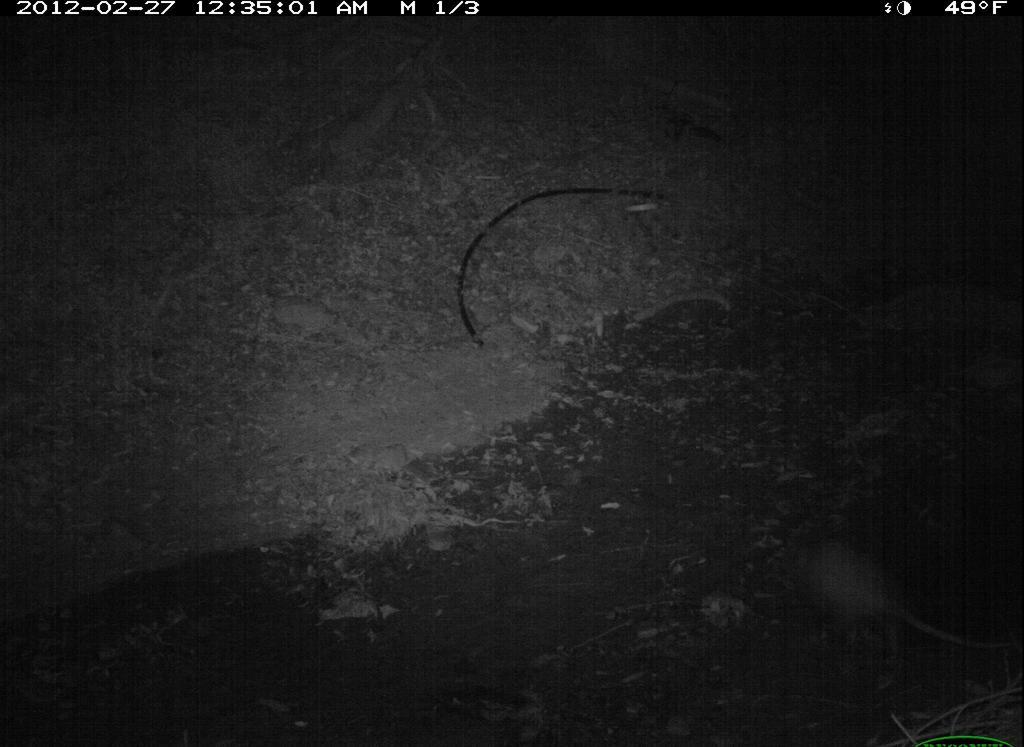opossum: (767, 525, 1016, 676)
